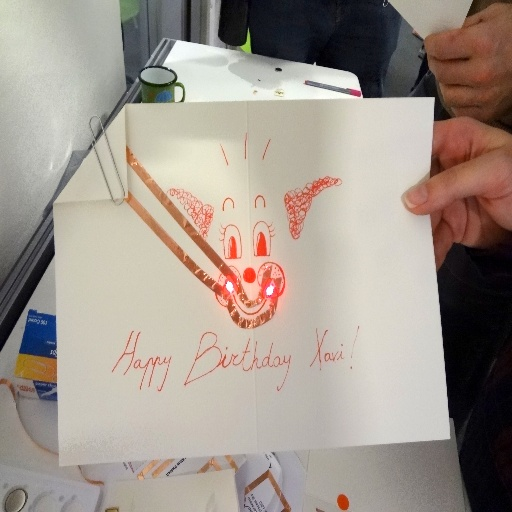hand: (412, 87, 507, 259), (422, 0, 511, 130)
